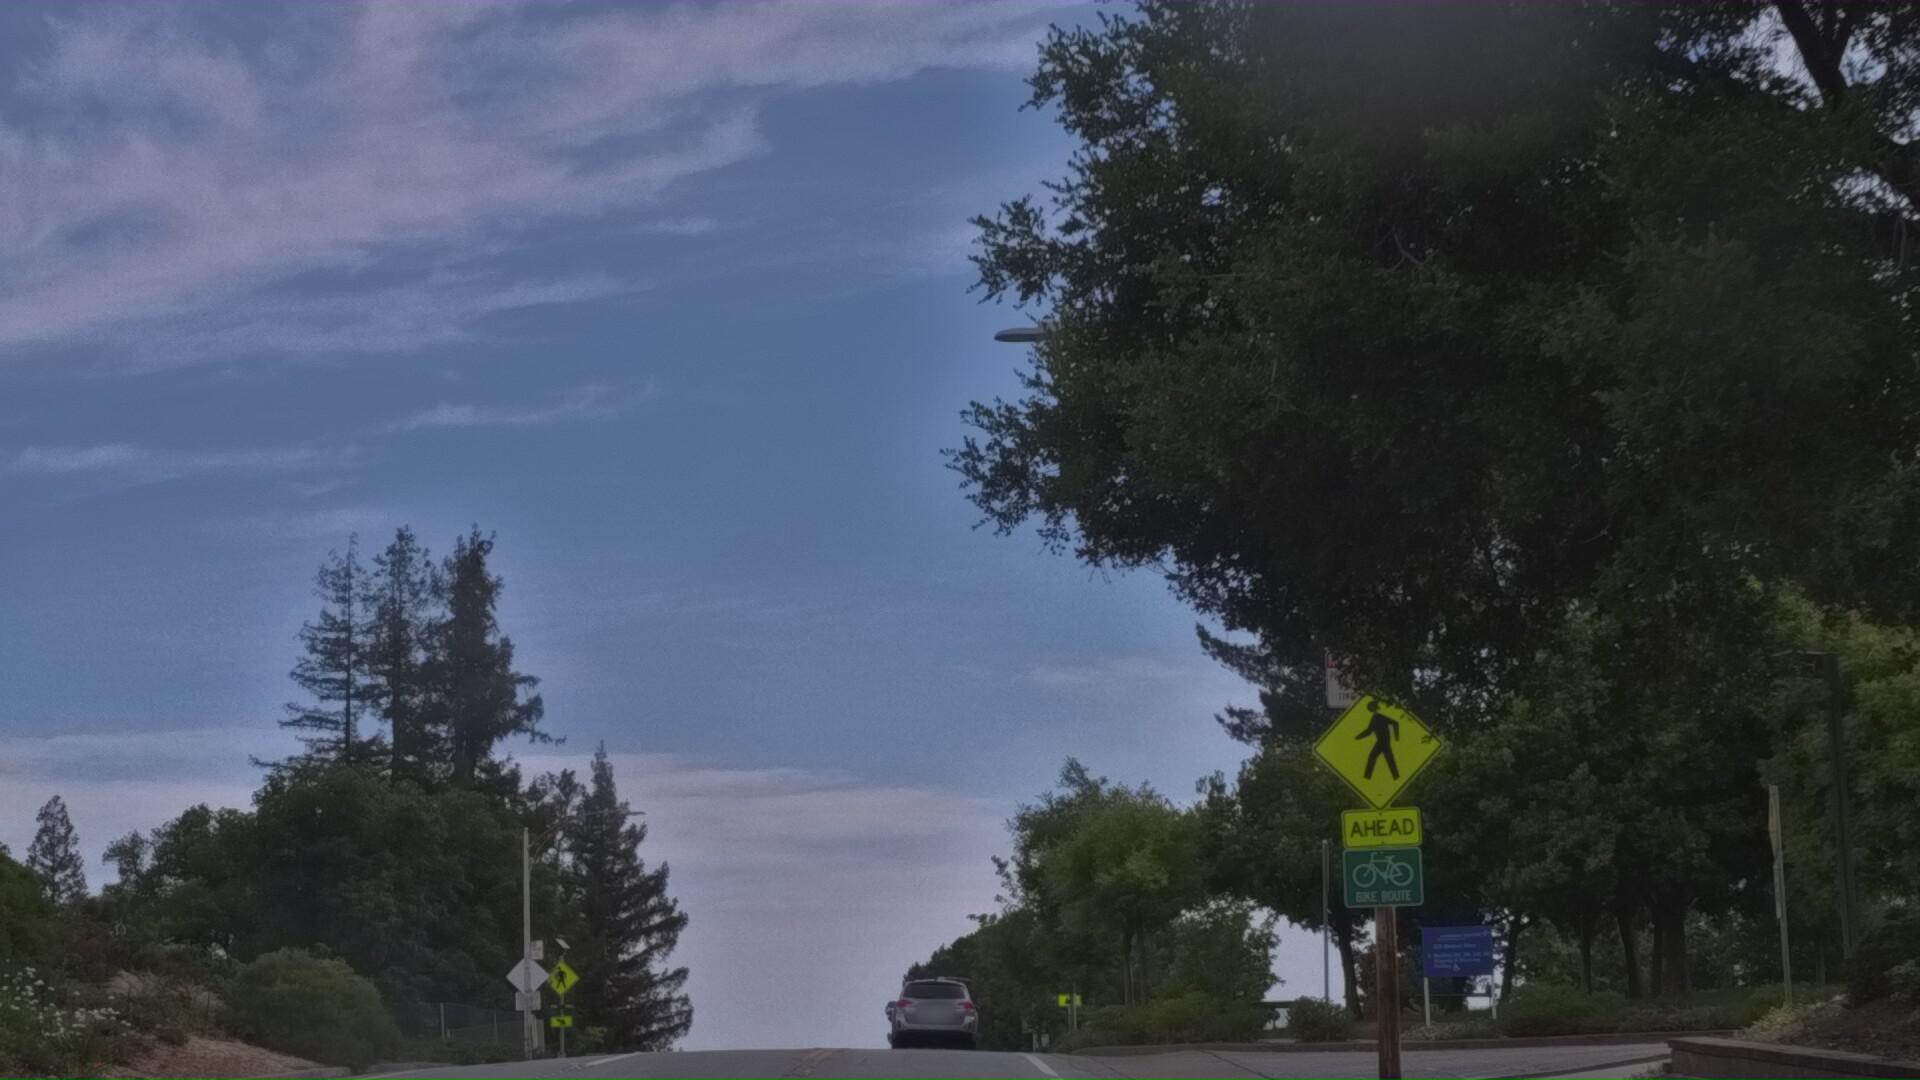car: (889, 975, 992, 1080)
